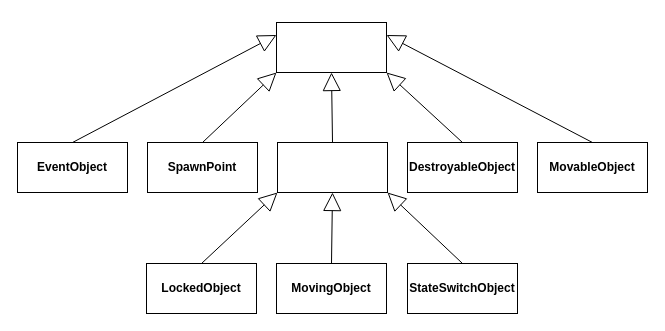
This 665x331 diagram has some shape labels left out. The centre of each missing label's shape, as x and y in pixels:
GameObject: [331,47]
InteractiveObject: [332,167]
